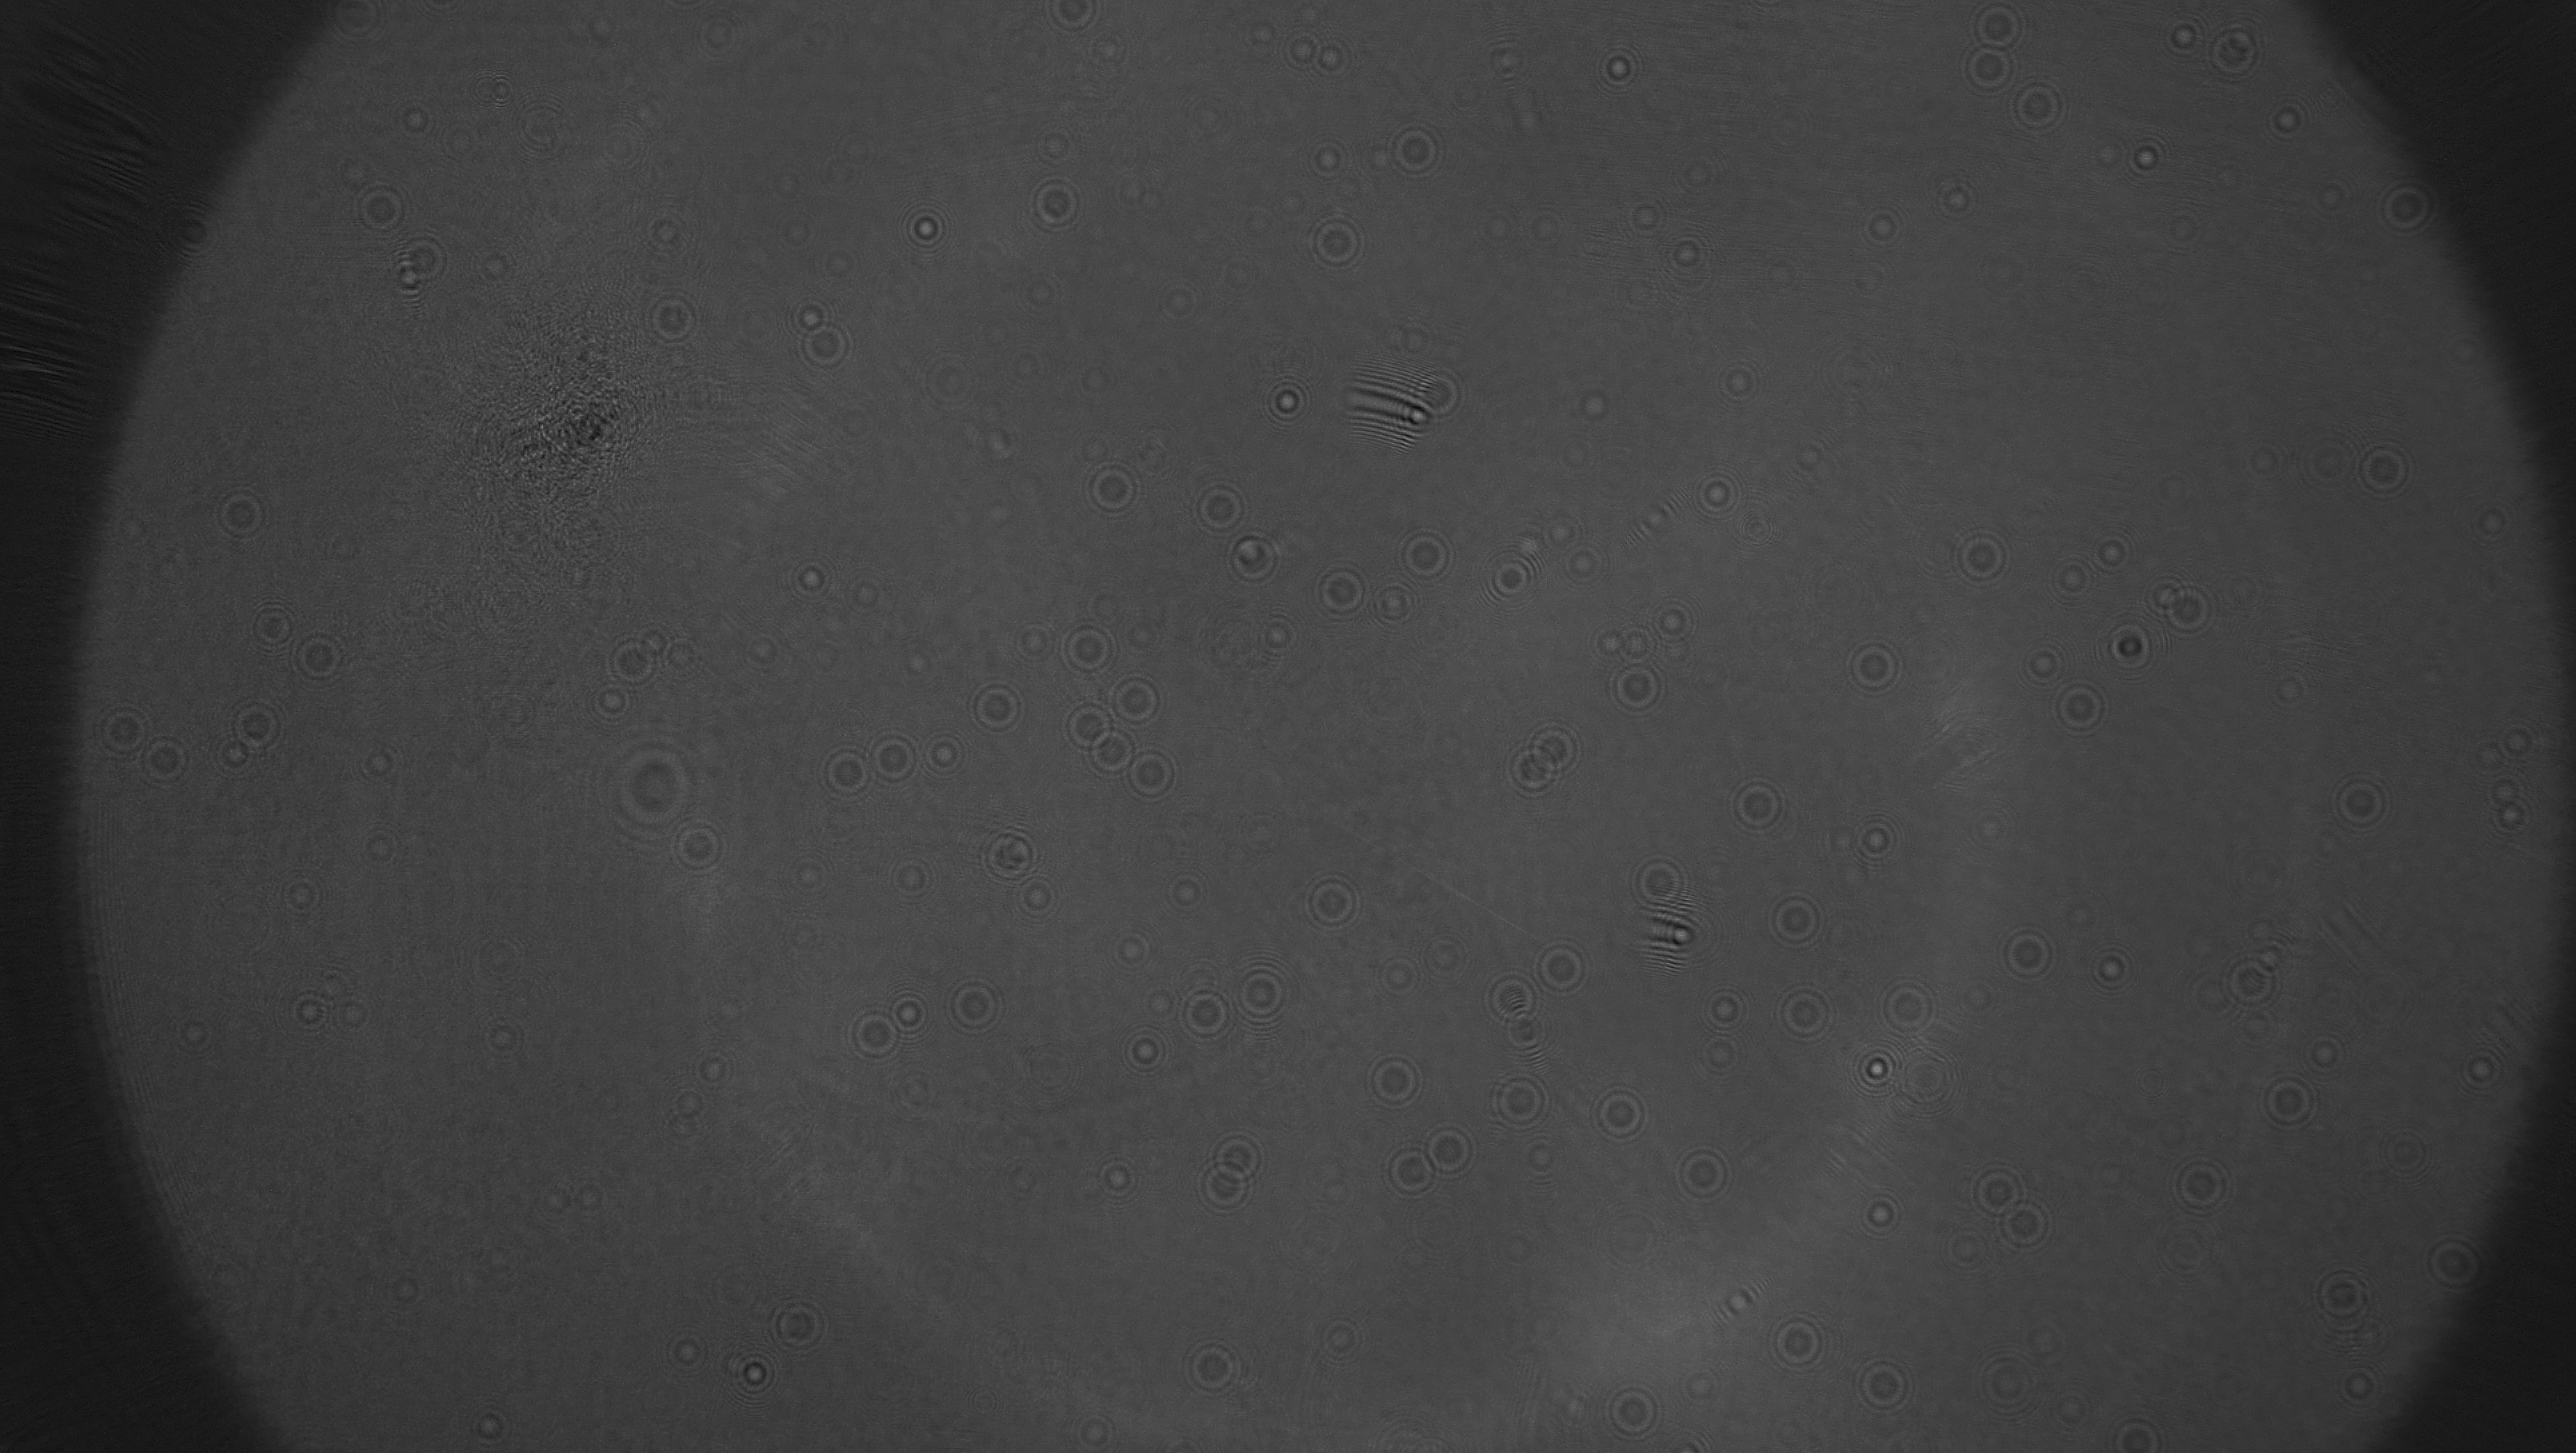bead: (1166, 1334, 1253, 1400), (2157, 1150, 2240, 1218), (1295, 867, 1376, 934), (959, 671, 1033, 743), (768, 1294, 842, 1365), (633, 281, 709, 350), (1481, 1067, 1559, 1133), (2325, 768, 2396, 839), (1233, 959, 1306, 1028), (1014, 173, 1093, 235), (1948, 522, 2017, 593), (218, 690, 294, 754), (1721, 777, 1799, 839), (2417, 1232, 2489, 1297), (2250, 1071, 2327, 1133), (1875, 970, 1944, 1037), (1357, 1046, 1430, 1110), (1989, 922, 2061, 986), (1759, 888, 1833, 950), (343, 179, 419, 239), (1297, 212, 1373, 273), (2167, 579, 2235, 646), (835, 1000, 904, 1065), (1760, 1310, 1829, 1375), (1182, 474, 1253, 538), (1667, 1143, 1737, 1207), (1835, 635, 1907, 697), (1472, 549, 1545, 611), (1766, 982, 1840, 1042), (1943, 41, 2024, 96), (1253, 370, 1320, 435), (2010, 76, 2081, 138), (892, 200, 966, 258), (789, 317, 865, 373), (593, 632, 669, 688), (1621, 853, 1697, 910), (876, 977, 941, 1042), (203, 481, 272, 543), (1306, 559, 1375, 621), (143, 731, 203, 802), (267, 986, 343, 1041), (669, 818, 734, 881), (1077, 458, 1143, 522), (1210, 1126, 1276, 1189), (1838, 809, 1904, 873), (1589, 1080, 1651, 1147), (87, 703, 157, 761), (2045, 676, 2116, 734), (292, 630, 356, 694), (1189, 1157, 1253, 1221), (1373, 1136, 1438, 1198), (1536, 931, 1601, 993), (1599, 1380, 1667, 1441), (812, 742, 876, 803), (1226, 526, 1286, 591), (1085, 1149, 1150, 1209), (1962, 1159, 2029, 1218), (1849, 1350, 1911, 1412), (1605, 658, 1670, 717), (1391, 524, 1458, 580), (865, 722, 918, 793), (945, 975, 1007, 1035), (1054, 697, 1122, 752), (2378, 181, 2449, 232), (1479, 965, 1541, 1023), (1177, 986, 1240, 1042), (1522, 722, 1594, 772), (1964, 4, 2036, 53), (1591, 41, 1656, 96), (1109, 1021, 1177, 1074), (1109, 674, 1180, 724), (1426, 1120, 1483, 1182), (1999, 1200, 2065, 1253), (2097, 1407, 2181, 1448), (1123, 743, 1185, 798), (1691, 460, 1746, 522), (725, 1350, 786, 1405), (2312, 1265, 2373, 1320), (1851, 1035, 1904, 1097), (2357, 441, 2413, 497), (2084, 938, 2139, 996), (237, 600, 297, 653), (1697, 980, 1753, 1035), (773, 292, 839, 338), (1003, 612, 1058, 667), (881, 857, 941, 906), (1014, 874, 1070, 926), (1852, 1188, 1905, 1241), (2128, 129, 2180, 184), (927, 727, 975, 786), (1500, 749, 1559, 796), (1088, 727, 1141, 779), (1060, 618, 1106, 673), (784, 556, 840, 600), (1030, 0, 1104, 34), (1100, 929, 1157, 972), (1385, 150, 1456, 179)
dust: (970, 818, 1042, 888), (1898, 1046, 1969, 1117), (1695, 1269, 1771, 1334), (1920, 165, 1999, 227), (916, 345, 987, 412), (1472, 28, 1539, 99), (152, 205, 234, 262), (1976, 1350, 2040, 1421), (2288, 427, 2358, 487), (2158, 205, 2233, 262), (1238, 605, 1315, 660), (370, 1258, 437, 1320), (161, 1005, 234, 1062), (648, 1324, 718, 1380), (1709, 354, 1775, 412), (2210, 19, 2268, 85), (1598, 1211, 1665, 1265), (1054, 1403, 1129, 1453), (2178, 970, 2242, 1026), (637, 204, 697, 262), (1366, 580, 1428, 637), (269, 871, 333, 926), (2378, 1127, 2442, 1182), (1306, 1311, 1371, 1365), (2040, 1386, 2102, 1441), (2479, 795, 2551, 841), (653, 1101, 711, 1157), (2454, 1041, 2511, 1099), (2434, 324, 2495, 379), (1651, 588, 1704, 650), (1488, 1226, 1559, 1272), (2328, 1361, 2394, 1411), (1412, 366, 1468, 423), (2295, 1021, 2353, 1076), (2008, 635, 2068, 688), (688, 11, 750, 60), (460, 1396, 518, 1448), (471, 1021, 538, 1065), (1067, 356, 1129, 404), (2258, 664, 2319, 711), (1560, 536, 1614, 591), (2015, 1310, 2070, 1363), (1962, 803, 2020, 853), (1150, 281, 1210, 329), (984, 1161, 1047, 1205), (1626, 501, 1683, 550), (2157, 11, 2213, 60), (329, 0, 384, 50), (1297, 135, 1352, 184), (1518, 1136, 1568, 1191), (1936, 1223, 1990, 1272), (2089, 526, 2139, 580), (764, 209, 824, 253), (734, 632, 794, 676), (1619, 191, 1672, 241), (846, 573, 902, 619), (1752, 250, 1808, 296), (1518, 202, 1568, 253), (1675, 149, 1729, 196), (2151, 465, 2208, 510), (1164, 867, 1215, 915), (2265, 96, 2318, 142), (1028, 124, 1083, 168), (2049, 556, 2097, 605), (1371, 950, 1422, 996), (1953, 975, 2005, 1021), (2084, 135, 2130, 186), (1681, 1365, 1734, 1409), (685, 1051, 740, 1094), (2470, 503, 2525, 545), (1017, 273, 1069, 317), (1790, 437, 1844, 480), (2489, 722, 2544, 763), (1858, 207, 1905, 253), (1661, 230, 1713, 273), (1274, 27, 1322, 71), (1313, 37, 1362, 80), (573, 1170, 614, 1221), (1564, 384, 1617, 423), (1697, 1034, 1741, 1080), (2311, 173, 2357, 216), (534, 1180, 577, 1225), (1555, 437, 1599, 480), (354, 743, 409, 777), (356, 832, 405, 867), (789, 855, 830, 897), (1585, 627, 1626, 658)
